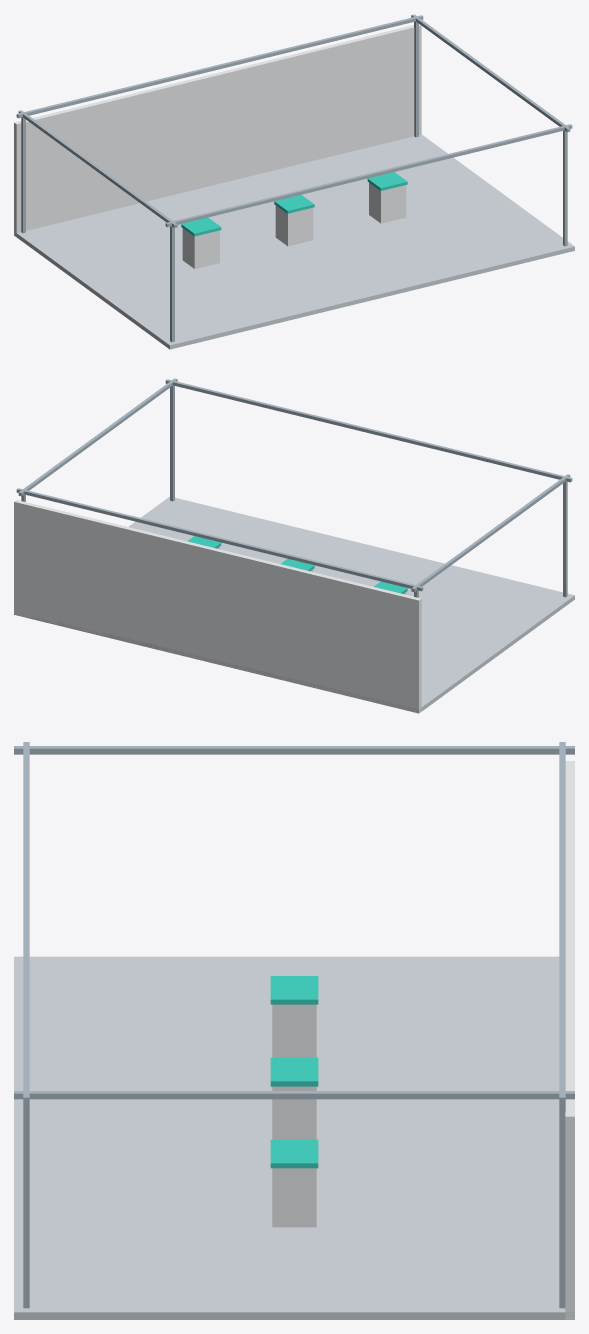
The picture shows the model from 3 angles, top to bottom: view 1: azimuth 30°, elevation 25°; view 2: azimuth 150°, elevation 25°; view 3: azimuth 270°, elevation 25°; orthographic projection. The views are drawn at different scales.
Visible parts, largest first — view 1: Exhibition Booth Concept; view 2: Exhibition Booth Concept; view 3: Exhibition Booth Concept.
Part boxes in pixels (<box>): Exhibition Booth Concept: <box>14,14,574,349</box>; Exhibition Booth Concept: <box>14,378,574,713</box>; Exhibition Booth Concept: <box>14,742,574,1319</box>.
Size of the model in its own units: 12 by 3.49 by 8.
